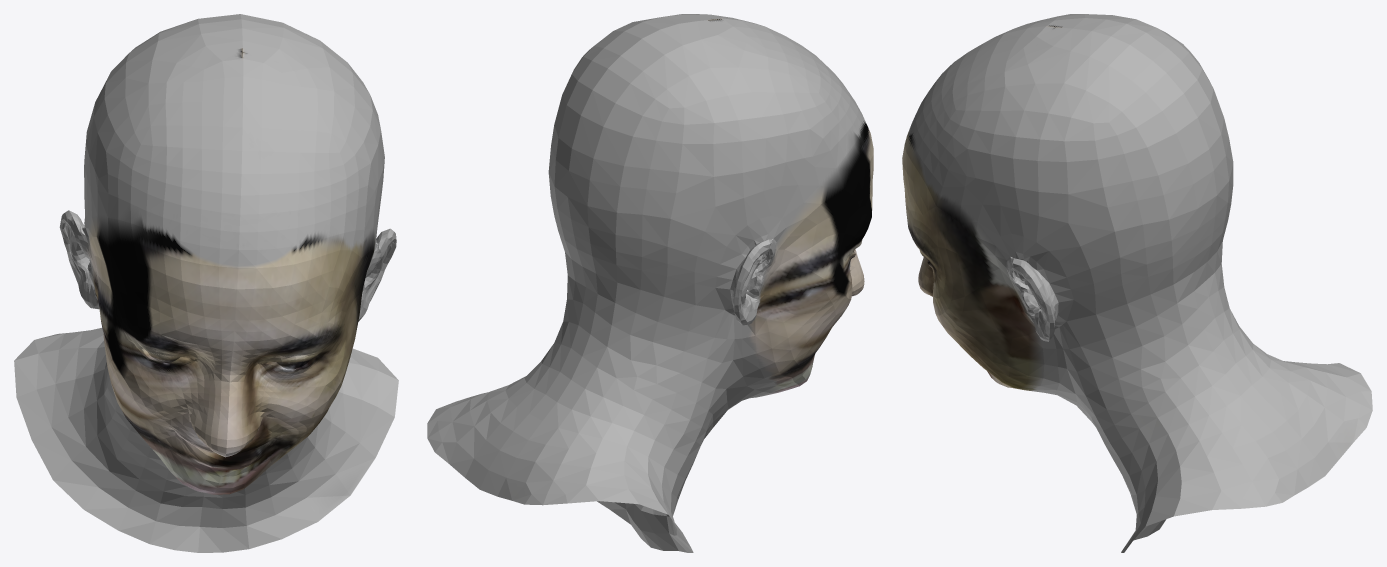
File: ezgif-frame-001.obj
3 views of the same model, side by side, from view 1: azimuth 30°, elevation 25°; view 2: azimuth 150°, elevation 25°; view 3: azimuth 270°, elevation 25° (orthographic). The views are drawn at different scales.
Bounding box in the file's own units: 0.2193 × 0.3198 × 0.272.
Materials: 1 (1 with a texture image).
